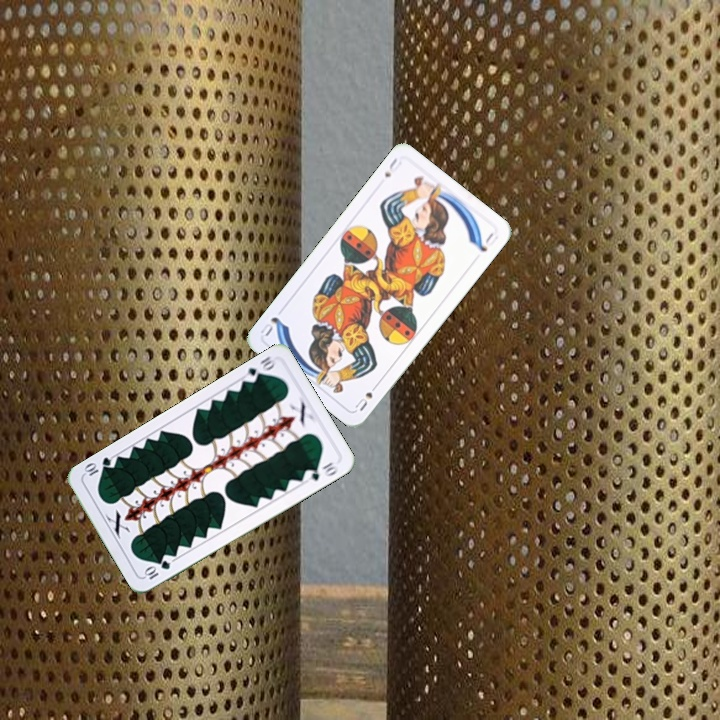G10: (240, 352, 278, 385), (140, 556, 173, 582)
SU: (351, 379, 382, 414), (380, 154, 405, 180)
